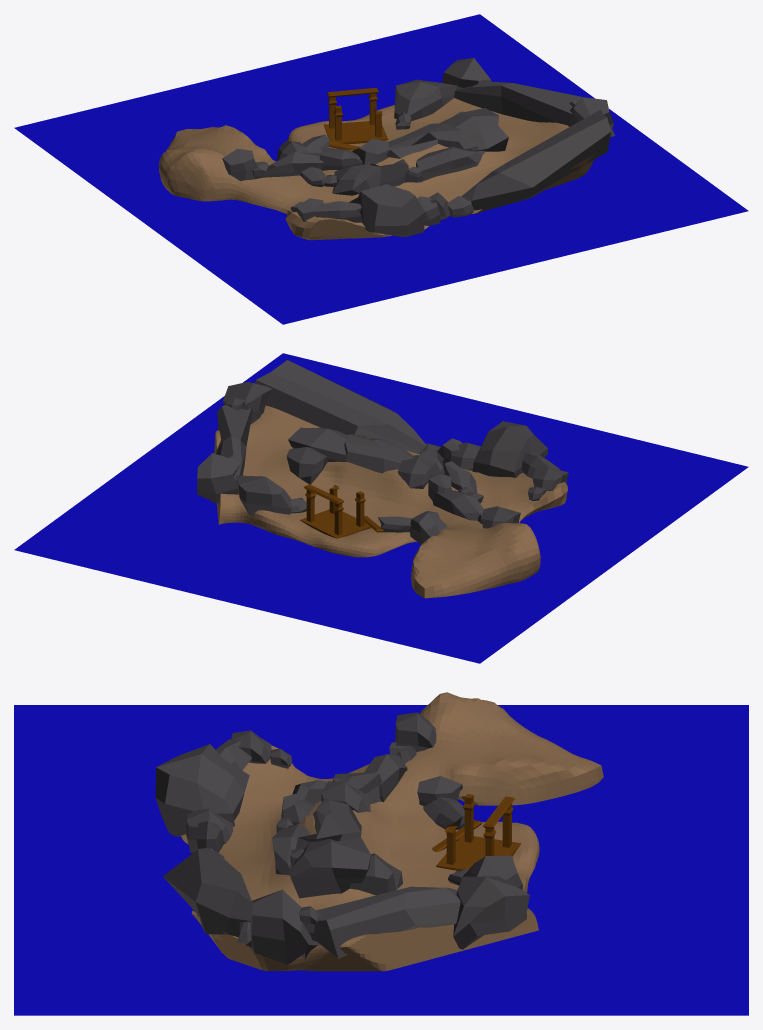
File: adacimbenim.glb
3 views of the same model, one above another, from view 1: azimuth 30°, elevation 25°; view 2: azimuth 150°, elevation 25°; view 3: azimuth 270°, elevation 25° (orthographic). The views are drawn at different scales.
Parts seen in each view (by area): view 1: ada; view 2: ada; view 3: ada.
Part boxes in pixels (x1,y1,x2,y2): ada: (14, 14, 748, 324); ada: (14, 353, 748, 663); ada: (14, 692, 748, 1015).
Bounding box in the file's own units: 29.38 × 5.32 × 29.38.
